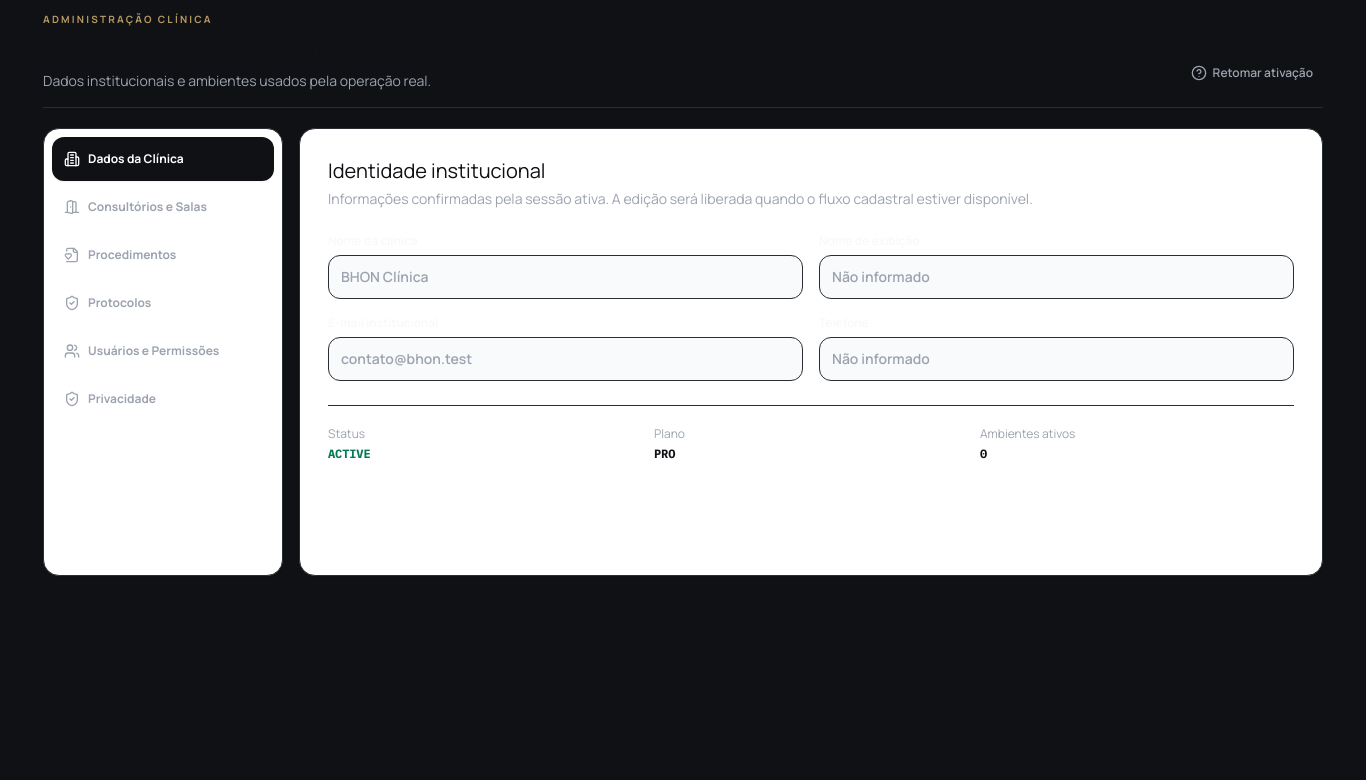
Test case: SettingsPage › carrega dados reais e apresenta ambientes vazios honestamente
Expected: the field showing "BHON Clínica" is disabled, x1=328 y1=255 x2=803 y2=299
Click the button "Consultórios e Salas".
click(163, 207)  # box x1=52 y1=185 x2=274 y2=229
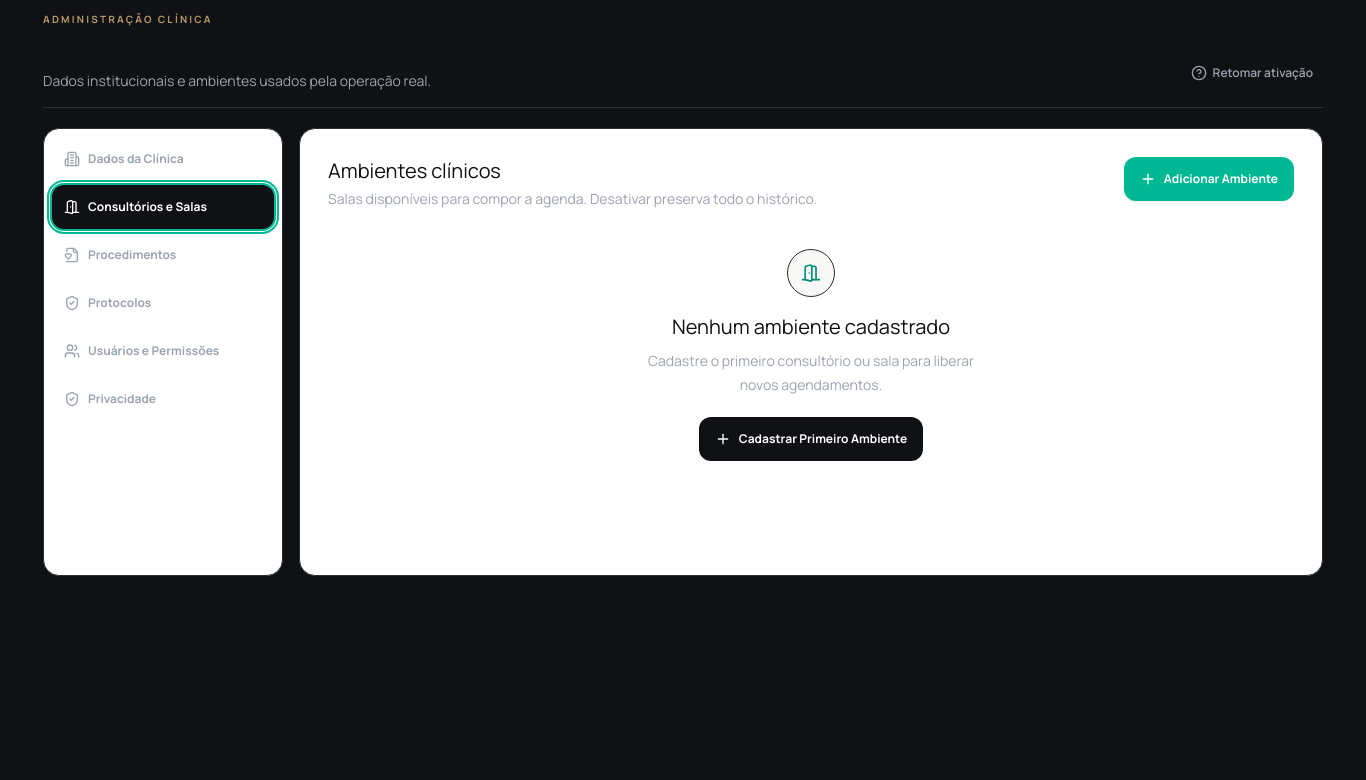
Now the heading "Nenhum ambiente cadastrado" is shown, box x1=672 y1=313 x2=950 y2=341
